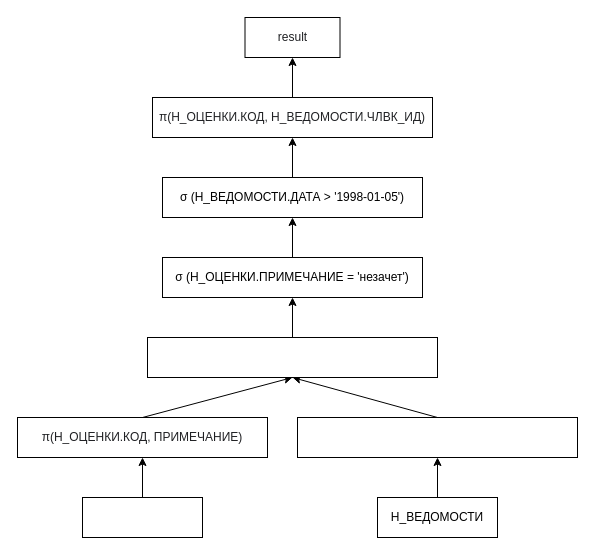
Image size: 595x555. Some labels were removed from this diagram. The shapes that lost their labels are listed below. From the top down, each one's centre as x and y in pixels, then its label:
the point at 292,357: ⋈ (Н_ВЕДОМОСТИ.ОЦЕНКА = Н_ОЦЕНКИ.КОД)
the point at 437,437: π(Н_ВЕДОМОСТИ.ОЦЕНКА, ДАТА, ЧЛВК_ИД)
the point at 142,517: Н_ОЦЕНКИ
